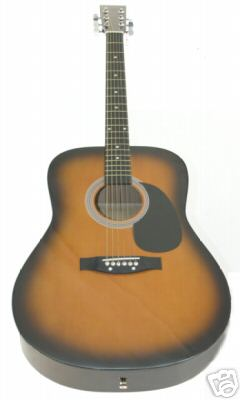guitar: (11, 5, 232, 395)
